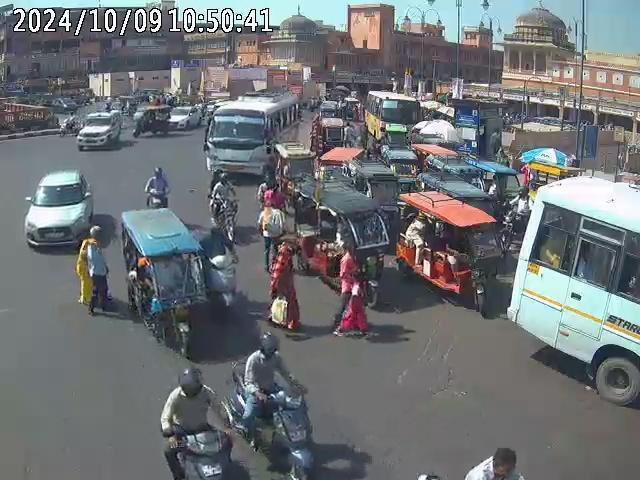auto: (394, 189, 512, 315), (118, 207, 202, 356), (315, 185, 390, 275)
bus: (509, 172, 639, 409), (202, 87, 300, 177), (366, 90, 420, 139)
car: (24, 170, 95, 253), (75, 111, 123, 152)
helmet: (178, 365, 204, 396), (258, 333, 280, 360), (154, 166, 164, 178)
motorbike-rider: (207, 169, 240, 238)
person: (332, 245, 371, 341), (267, 238, 300, 336), (76, 226, 109, 313), (457, 446, 542, 479), (257, 195, 286, 266)
scooty-rider: (228, 331, 316, 478), (158, 365, 235, 479), (143, 165, 169, 207)
